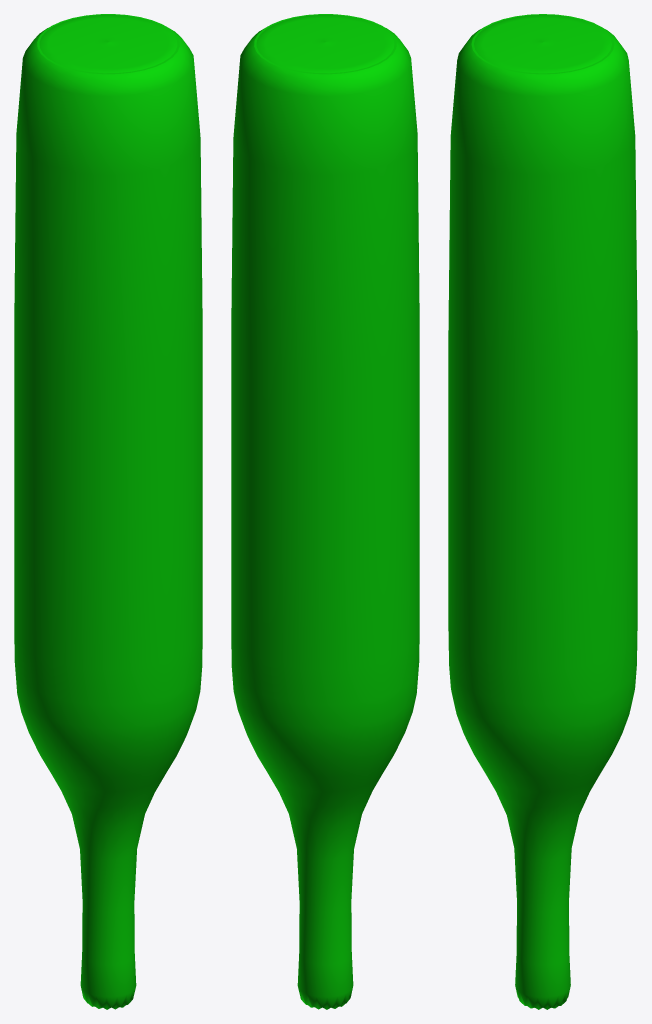
File: wine bottle.FBX
3 views of the same model, side by side, from view 1: azimuth 30°, elevation 25°; view 2: azimuth 150°, elevation 25°; view 3: azimuth 270°, elevation 25° (orthographic).
Parts seen in each view (by area): view 1: winebottle; view 2: winebottle; view 3: winebottle.
Boxes of the visible parts, x1,y1,x2,y2 form: winebottle: (14,14,202,1009); winebottle: (231,14,419,1009); winebottle: (448,14,637,1009).
Bounding box in the file's own units: 189 × 1064 × 189.
